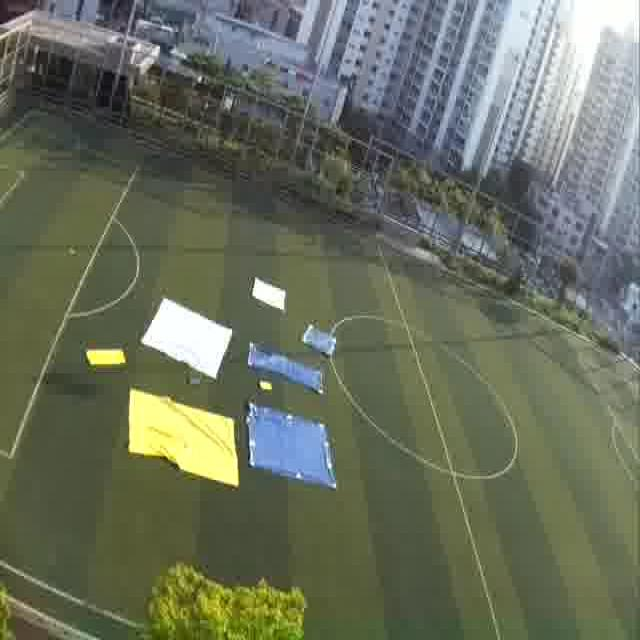danger: (245, 399, 341, 497), (249, 341, 303, 380), (300, 315, 341, 362)
safety: (139, 290, 241, 379), (246, 273, 292, 318)
warning: (124, 385, 240, 496), (84, 340, 130, 373)
